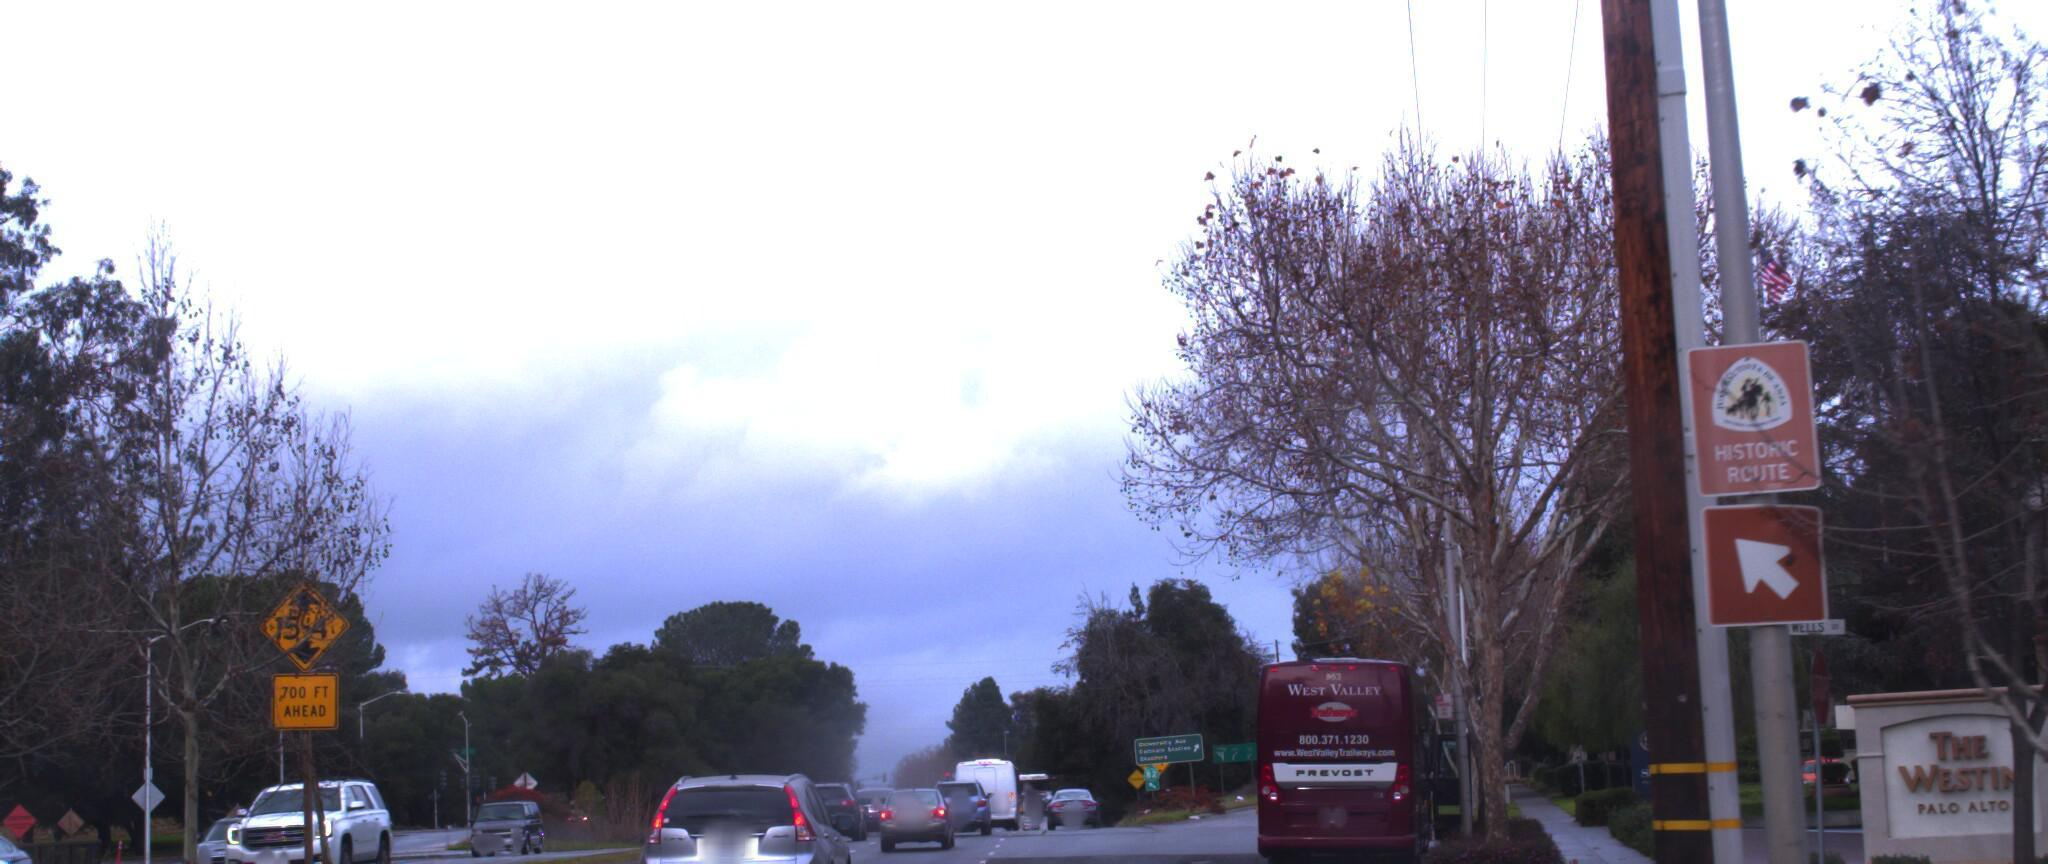bus: (1243, 640, 1448, 854)
car: (630, 747, 857, 864), (0, 784, 308, 864), (219, 758, 393, 864), (870, 773, 950, 843), (0, 797, 54, 864)
